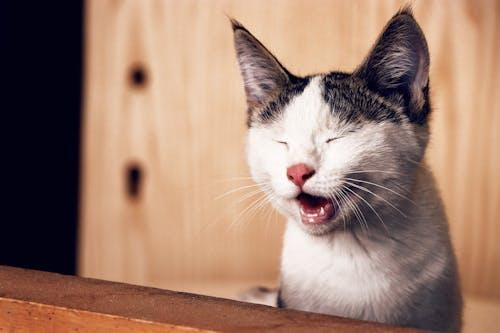kedo: (232, 12, 463, 333)
